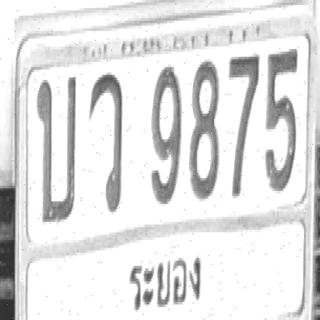A26: (36, 74, 77, 224)
A37: (88, 71, 123, 213)
N05: (264, 48, 298, 192)
N07: (228, 52, 260, 196)
N08: (189, 58, 219, 200)
N09: (150, 65, 181, 204)
P53: (125, 241, 202, 315)
